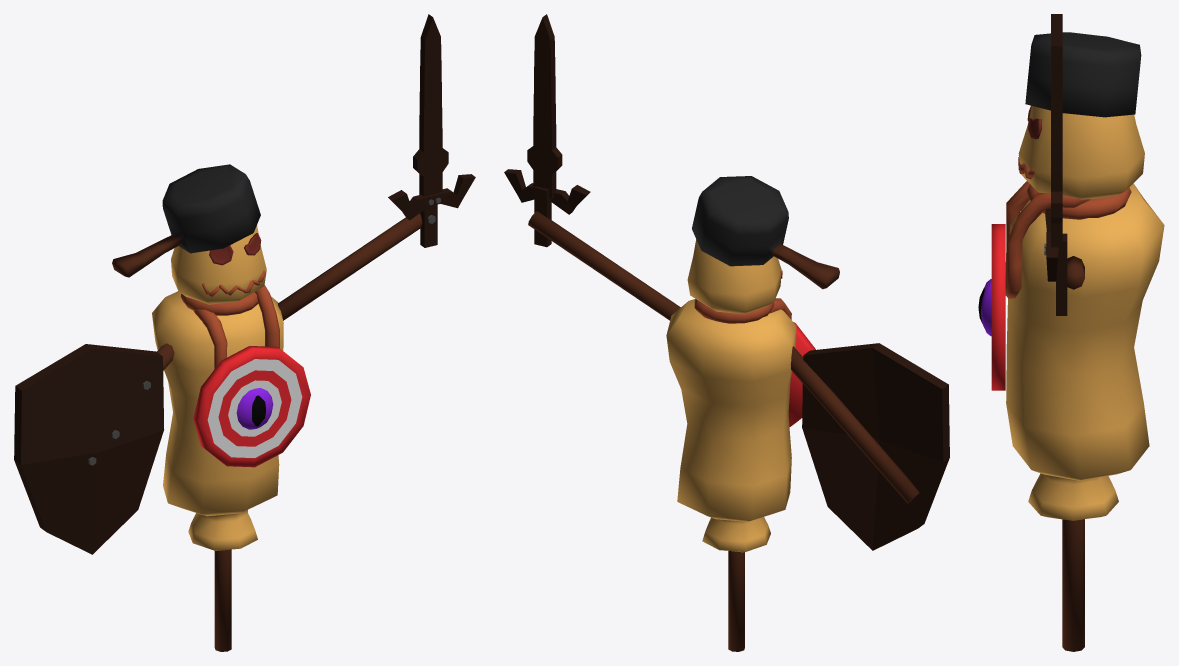
The model's file is Dummy.fbx.
3 views of the same model, side by side, from view 1: azimuth 30°, elevation 25°; view 2: azimuth 150°, elevation 25°; view 3: azimuth 270°, elevation 25° (orthographic). The views are drawn at different scales.
Visible parts, largest first — view 1: Cylinder; view 2: Cylinder; view 3: Cylinder.
Boxes of the visible parts, left/top/right/bottom form: Cylinder: left=14, top=14, right=475, bottom=651; Cylinder: left=504, top=14, right=949, bottom=651; Cylinder: left=978, top=14, right=1164, bottom=651.
Size of the model in its own units: 512 by 637 by 141.
